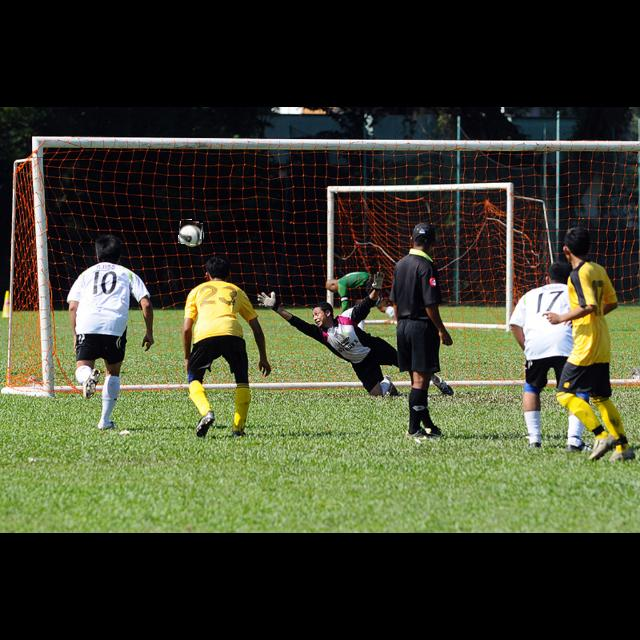Football: (179, 220, 203, 244)
